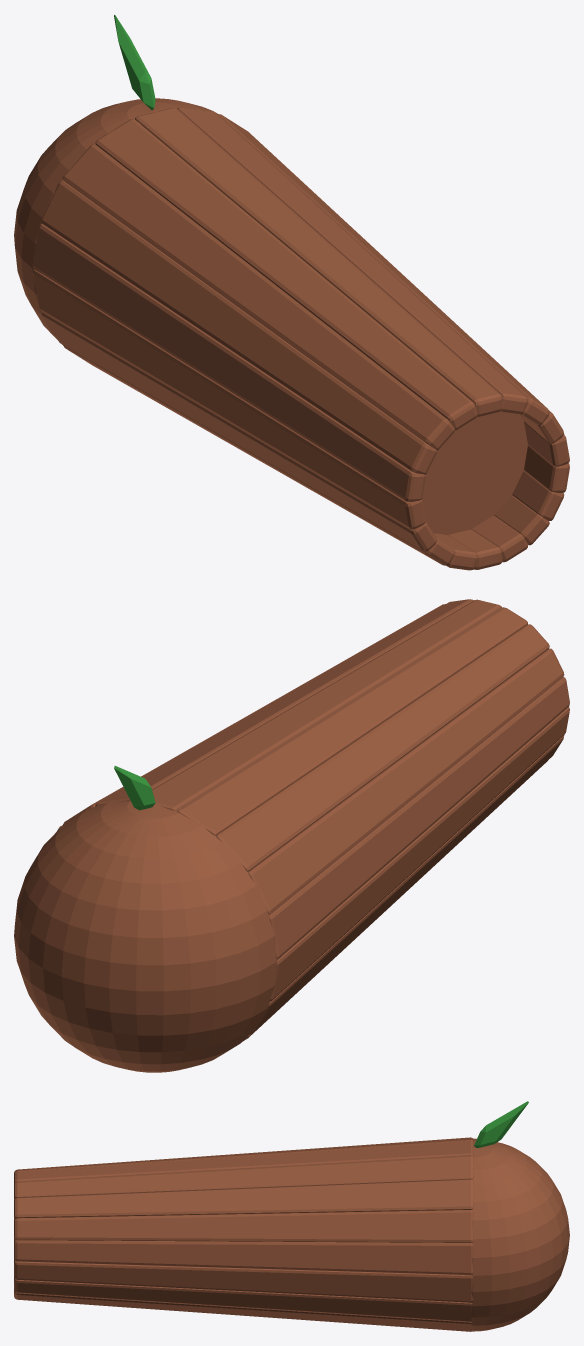
File: cannon.fbx
The picture shows the model from 3 angles, top to bottom: view 1: azimuth 30°, elevation 25°; view 2: azimuth 150°, elevation 25°; view 3: azimuth 270°, elevation 25°; orthographic projection. The views are drawn at different scales.
Parts seen in each view (by area): view 1: Cube, Cube.001; view 2: Cube, Cube.001; view 3: Cube, Cube.001.
Part boxes in pixels (<box>): Cube: <box>14,98,569,570</box>; Cube.001: <box>114,15,155,110</box>; Cube: <box>14,599,569,1072</box>; Cube.001: <box>114,766,155,810</box>; Cube: <box>14,1137,569,1331</box>; Cube.001: <box>474,1101,528,1147</box>.
Size of the model in its own units: 605 by 760 by 1728.
